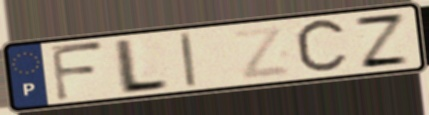C: (292, 15, 352, 78)
F: (48, 40, 108, 103)
I: (177, 29, 200, 90)
L: (115, 36, 172, 97)
Z: (230, 23, 294, 82), (351, 12, 413, 70)
